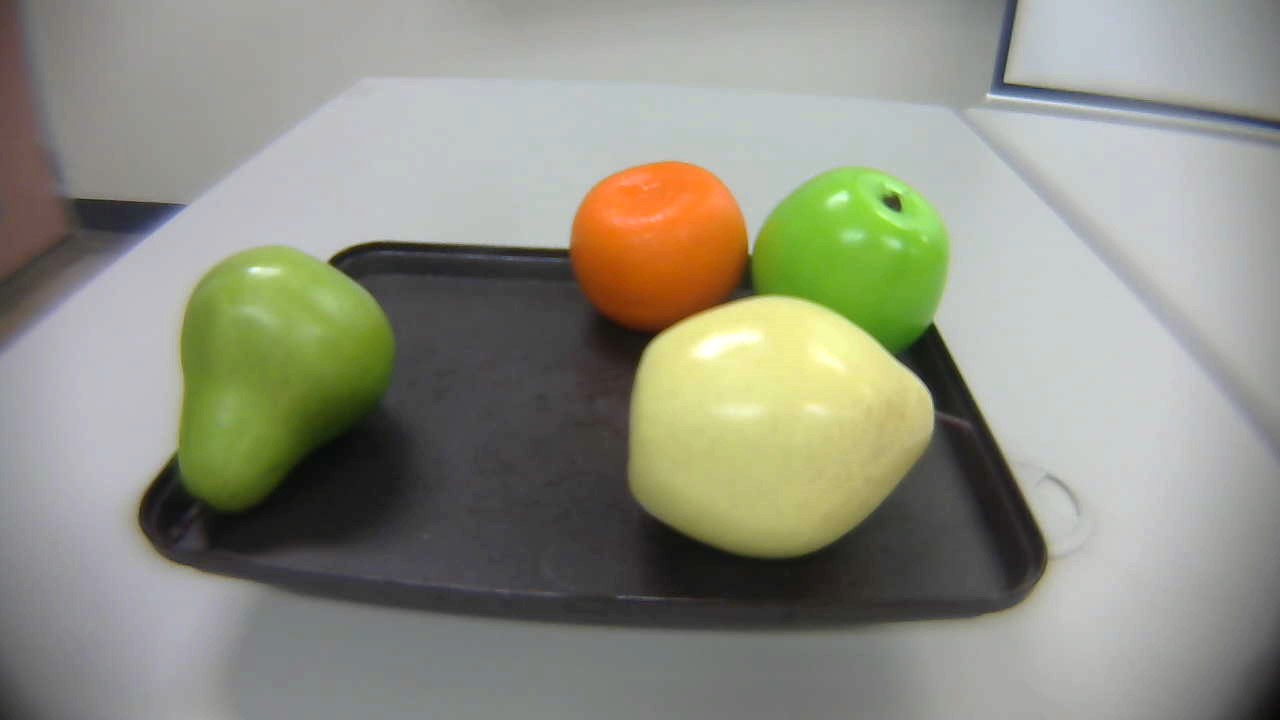green apple: (722, 166, 955, 364)
green pear: (128, 236, 413, 563)
orange: (565, 161, 757, 329)
western pear: (582, 294, 983, 556)
